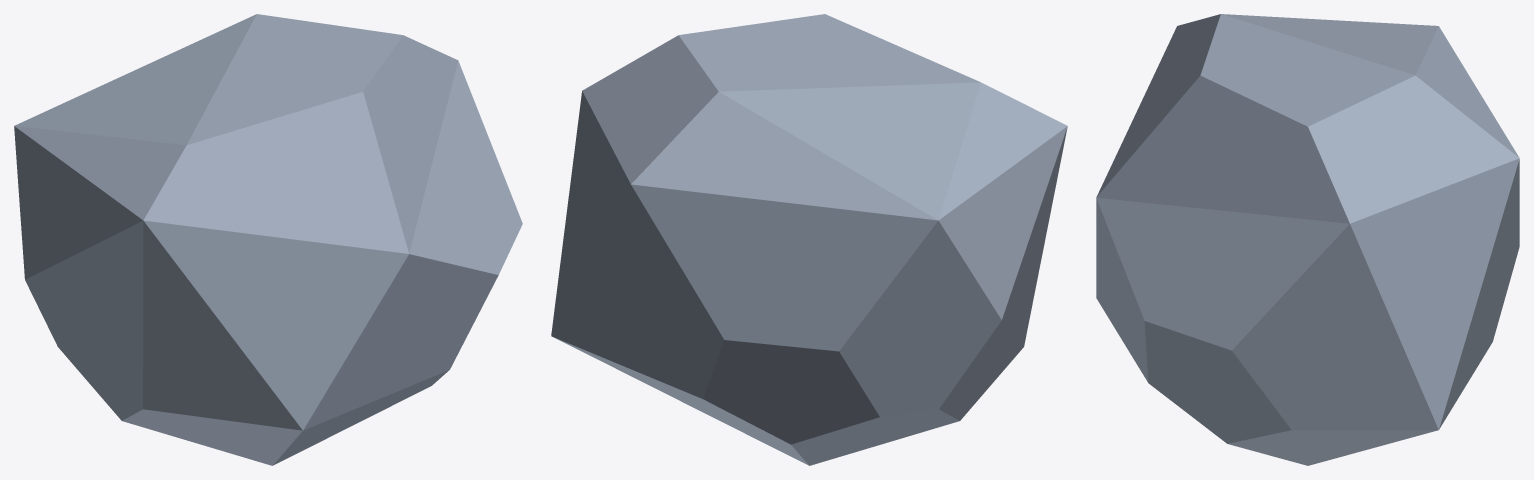
The model's file is rock2.fbx.
3 renders of one model, left to right at view 1: azimuth 30°, elevation 25°; view 2: azimuth 150°, elevation 25°; view 3: azimuth 270°, elevation 25°, orthographic.
Visible parts, largest first — view 1: Icosphere.002; view 2: Icosphere.002; view 3: Icosphere.002.
Part boxes in pixels (x1,y1,x2,y2): Icosphere.002: [14, 14, 522, 465]; Icosphere.002: [551, 14, 1067, 465]; Icosphere.002: [1096, 14, 1519, 465].
Bounding box in the file's own units: 205 × 183 × 172.
